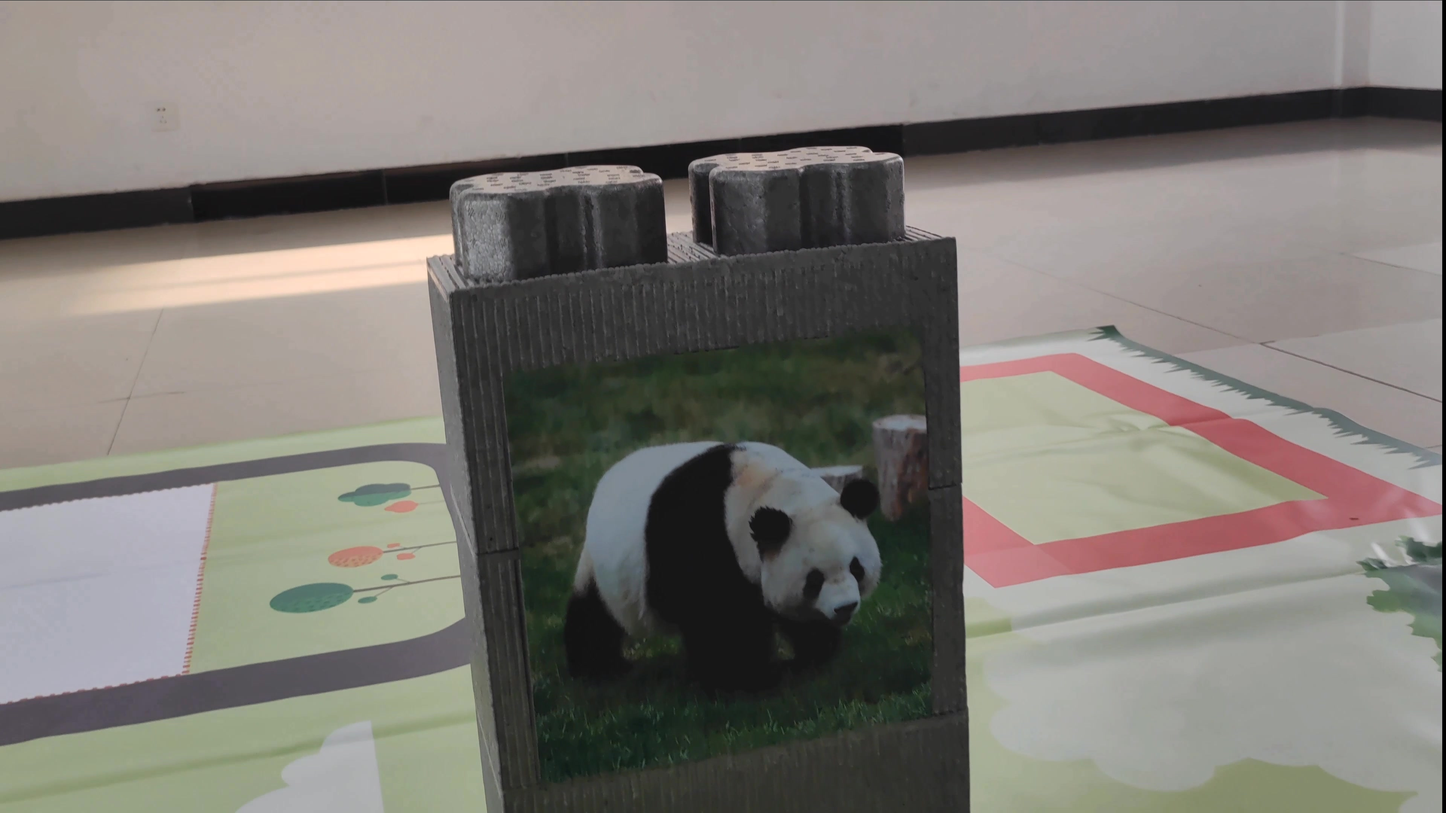panda: (553, 402, 905, 706)
